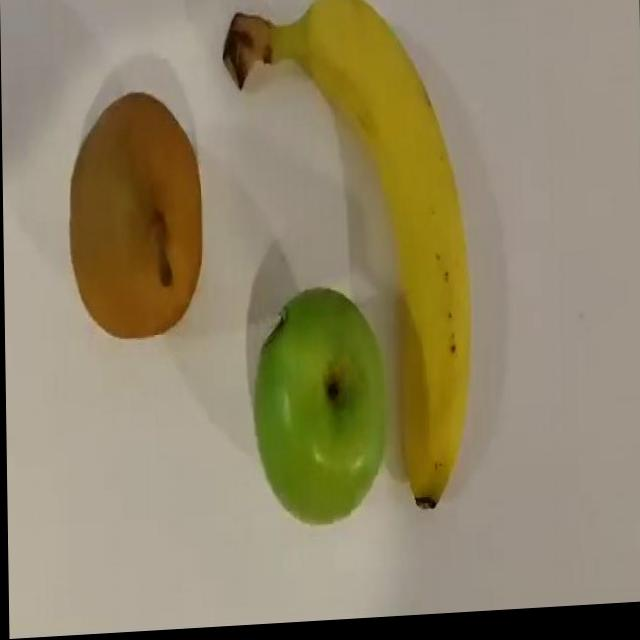Apple: (67, 92, 204, 346), (252, 289, 387, 534)
Banana: (222, 0, 473, 527)
